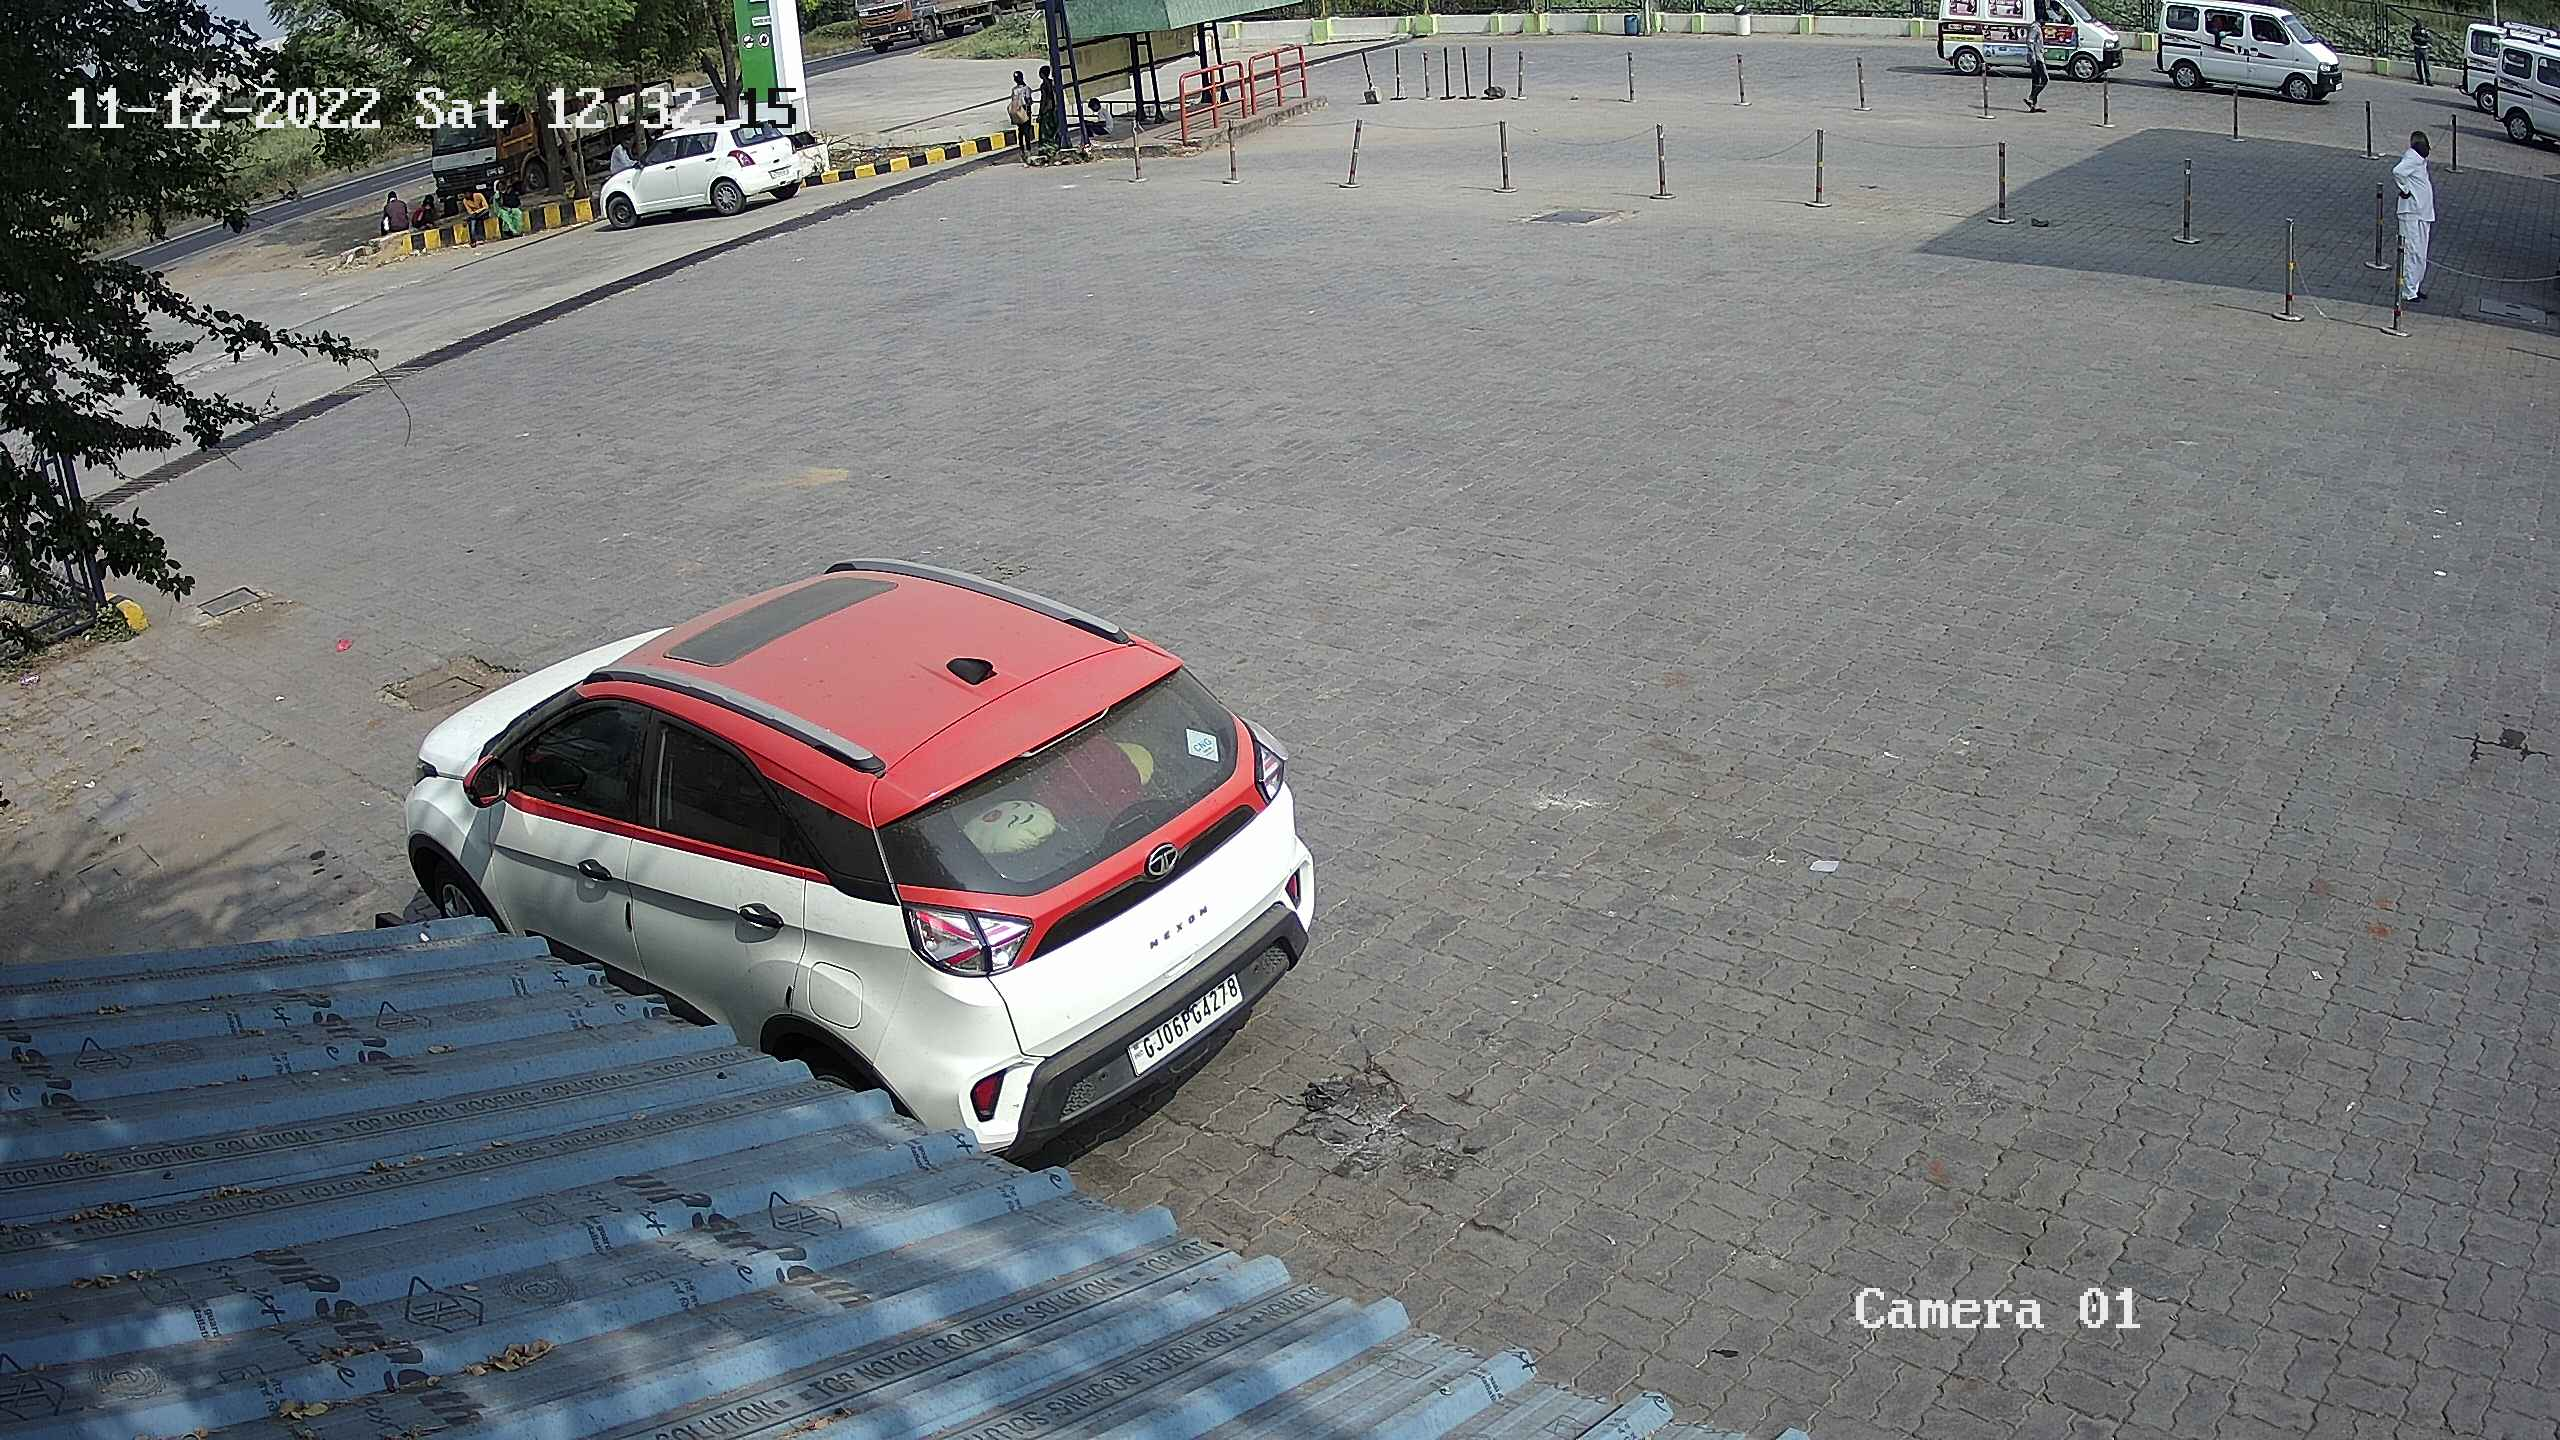Car: (376, 533, 1326, 1194), (598, 97, 835, 232), (2133, 0, 2344, 111), (1925, 0, 2129, 93), (2486, 16, 2558, 171), (2451, 11, 2514, 125)
HMV: (411, 74, 556, 216), (837, 0, 1020, 62)
